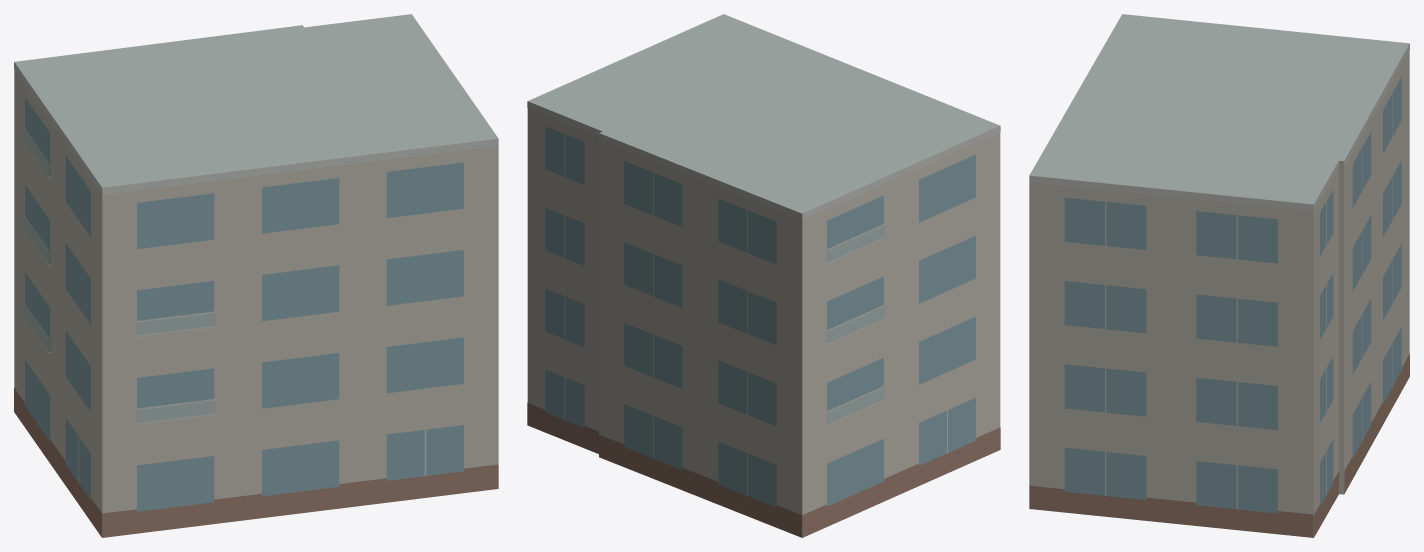
The model's file is survey-upis-32886029.glb.
3 views of the same model, side by side, from view 1: azimuth 30°, elevation 25°; view 2: azimuth 150°, elevation 25°; view 3: azimuth 270°, elevation 25° (orthographic). The views are drawn at different scales.
Visible parts, largest first — view 1: survey-upis-32886029.tmp; view 2: survey-upis-32886029.tmp; view 3: survey-upis-32886029.tmp.
Boxes of the visible parts, <box> form: survey-upis-32886029.tmp: <box>14,14,498,537</box>; survey-upis-32886029.tmp: <box>527,14,1000,537</box>; survey-upis-32886029.tmp: <box>1029,14,1409,537</box>.
Bounding box in the file's own units: 14.54 × 11.85 × 12.27.
